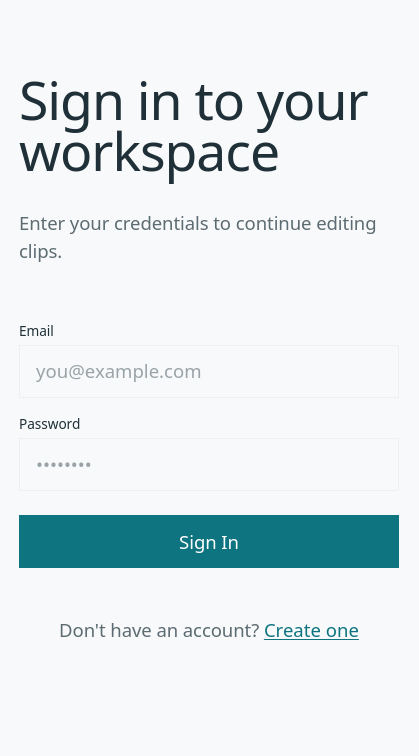
Test: root provider, forms and HTTP integration (F1–F3) › switches views without carrying validation or transport errors for register=true
(page scrolled)
Expected: the button "Sign In" is shown, [19,515,399,568]
Click the button "Create one": [311, 630] box [264,616,359,644]
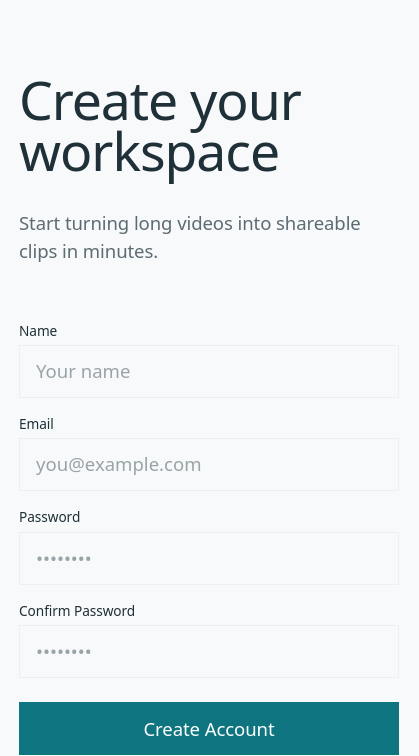
In the field labelled "Name": [209, 372] box [19,345,399,398], type "Mira Vale"
In the field labelled "Email": [209, 465] box [19,438,399,491], type "mira@example.test"
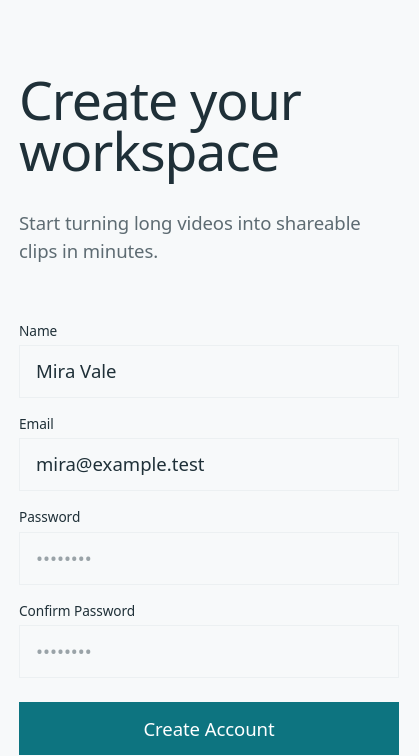
In the password field labelled "Password": [209, 558] box [19,532,399,585], type "test-password"
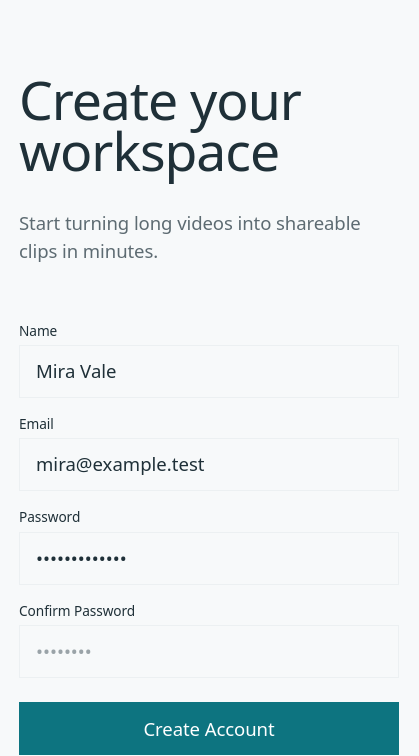
In the password field labelled "Confirm Password": [209, 652] box [19,625,399,678], type "test-password"
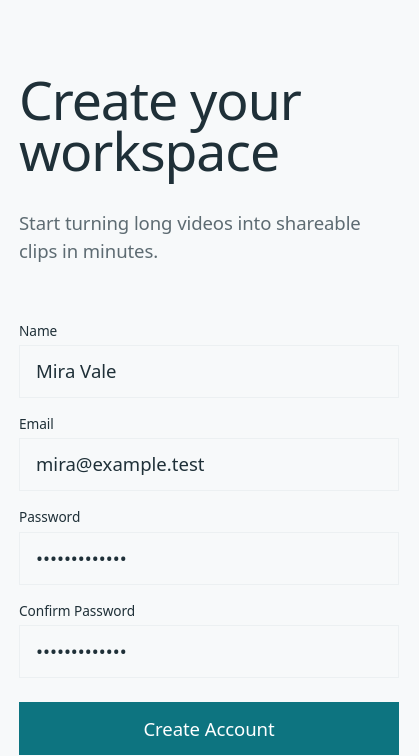
Submit the form "Create Account", box [19,321,399,755]
(page scrolled)
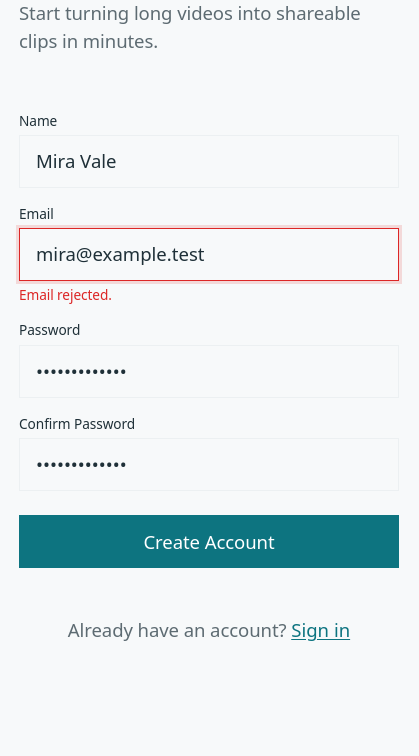
Expected: the message "Email rejected." is shown, [19,285,112,304]
Click the button "Sign in": [321, 630] box [291,616,350,644]
(page scrolled)
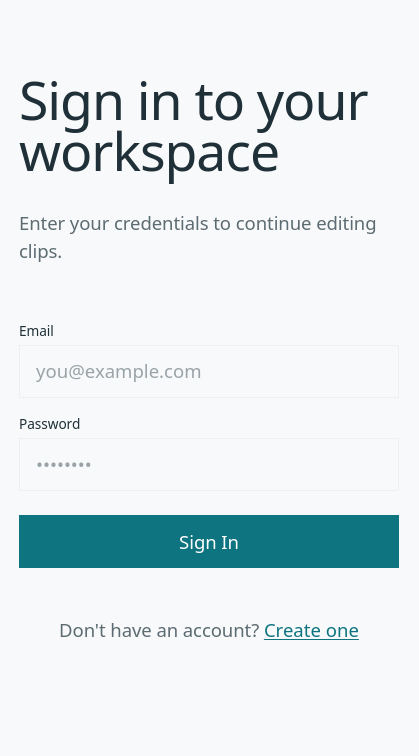
Expected: the message "Email rejected." is gone
Expected: the field labelled "Email" is empty, [19,345,399,398]
